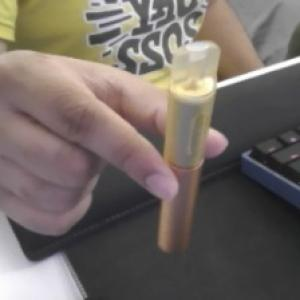Golden-E-Ciggirate: (153, 39, 224, 258)
